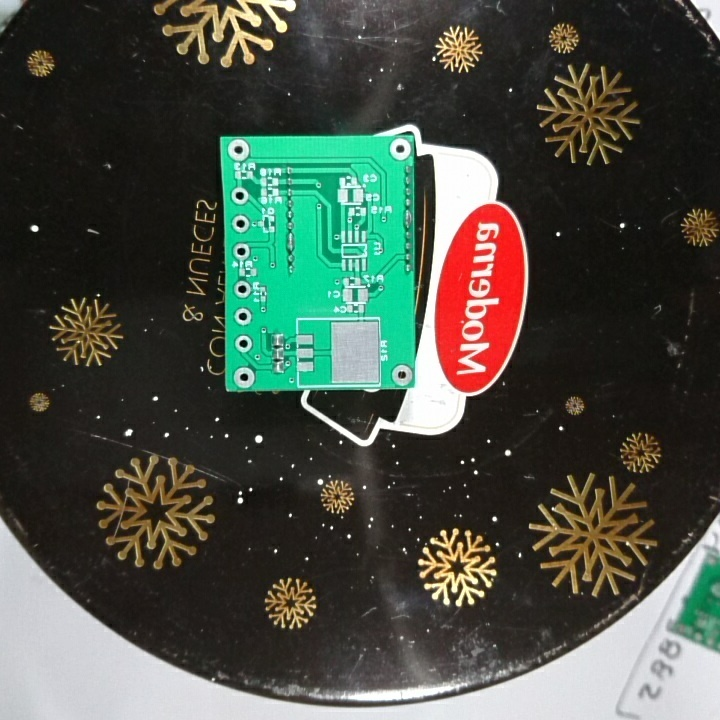F: (225, 138, 250, 165), (232, 364, 257, 389), (389, 363, 413, 389), (230, 277, 254, 301), (388, 137, 410, 163), (232, 333, 255, 355), (229, 185, 250, 208), (233, 306, 254, 328), (231, 212, 251, 235), (231, 241, 252, 261)
P: (283, 231, 297, 253), (401, 209, 412, 229)
